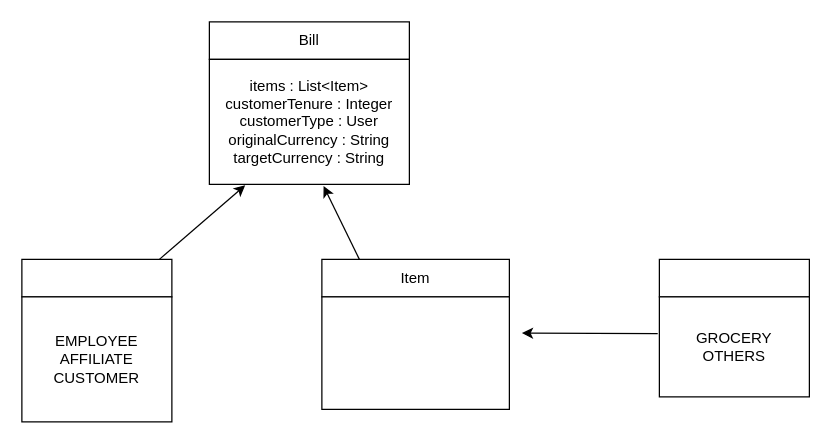
Some shapes in this 831 by 444 pixel diagram are drawn without their labels. Each missing label, with the centre of its shape:
"ItemCategory" goes at pixel 733 277.
"name : String category : ItemCategory price : Double quantity : Integer" goes at pixel 415 352.
"User" goes at pixel 96 277.
